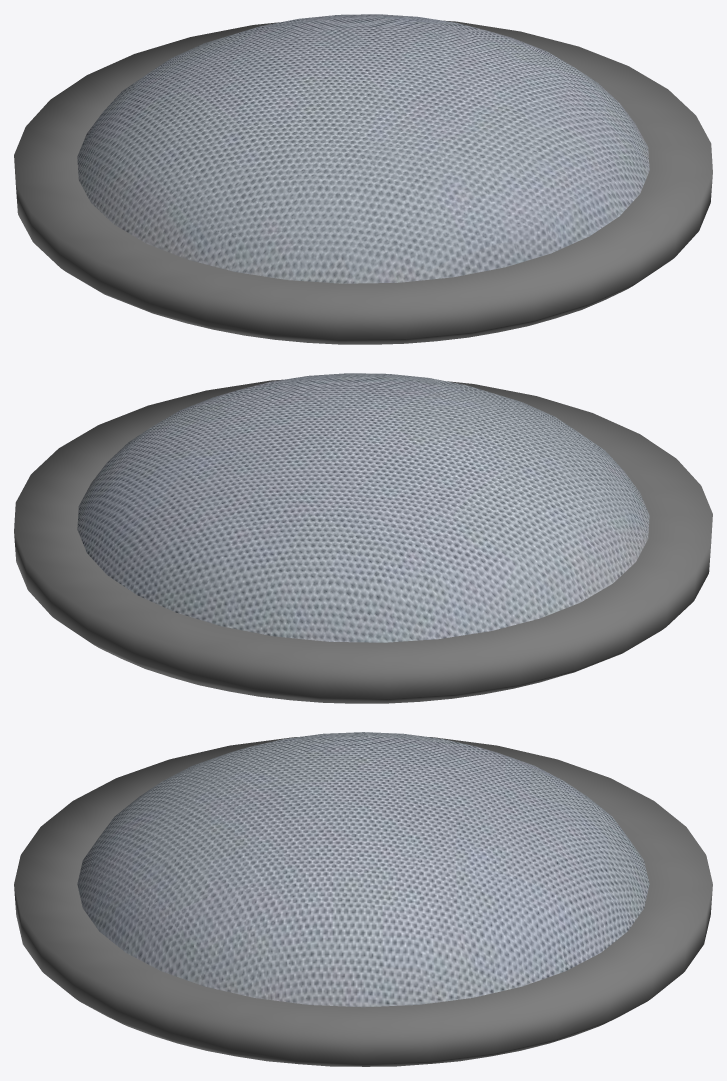
Rendered from speakor.fbx.
3 renders of one model, top to bottom at view 1: azimuth 30°, elevation 25°; view 2: azimuth 150°, elevation 25°; view 3: azimuth 270°, elevation 25°, orthographic.
Parts seen in each view (by area): view 1: Sphere.001, Sphere.002; view 2: Sphere.001, Sphere.002; view 3: Sphere.001, Sphere.002.
Boxes of the visible parts, x1,y1,x2,y2 form: Sphere.001: (77, 14, 649, 283); Sphere.002: (14, 20, 712, 344); Sphere.001: (77, 373, 649, 642); Sphere.002: (14, 379, 712, 703); Sphere.001: (77, 732, 649, 1007); Sphere.002: (14, 737, 712, 1066).
Bounding box in the file's own units: 558 × 184 × 549.
